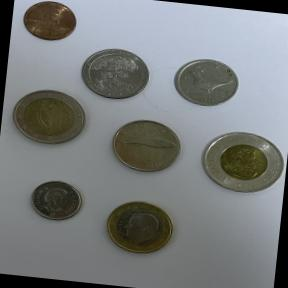1 Euro-B: (100, 194, 180, 262)
2 Euro-B: (4, 84, 94, 153)
Canada-10cent-B: (24, 173, 88, 229)
Canada-2Dollar-B: (195, 124, 288, 202)
Croatia-2Kune-B: (104, 114, 189, 181)
US-1cent-B: (19, 0, 80, 45)
US-25cent-B: (76, 42, 156, 107)
